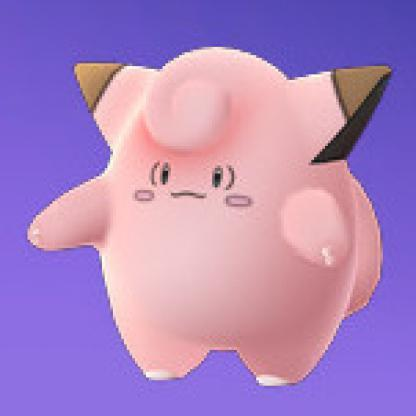Clefairy: (31, 42, 396, 391)
